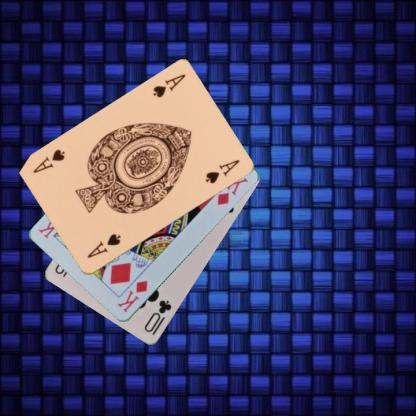10c: (141, 298, 174, 334)
As: (84, 231, 122, 260), (150, 72, 187, 99)
Kd: (115, 278, 149, 314)
